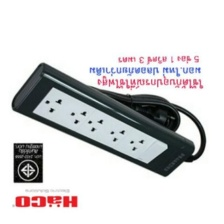three_eye_plug: (11, 61, 198, 178)
